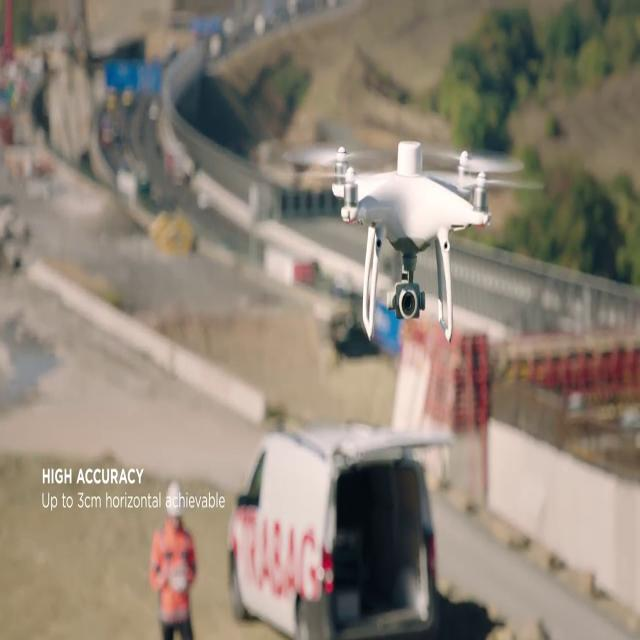drone: (281, 138, 543, 346)
